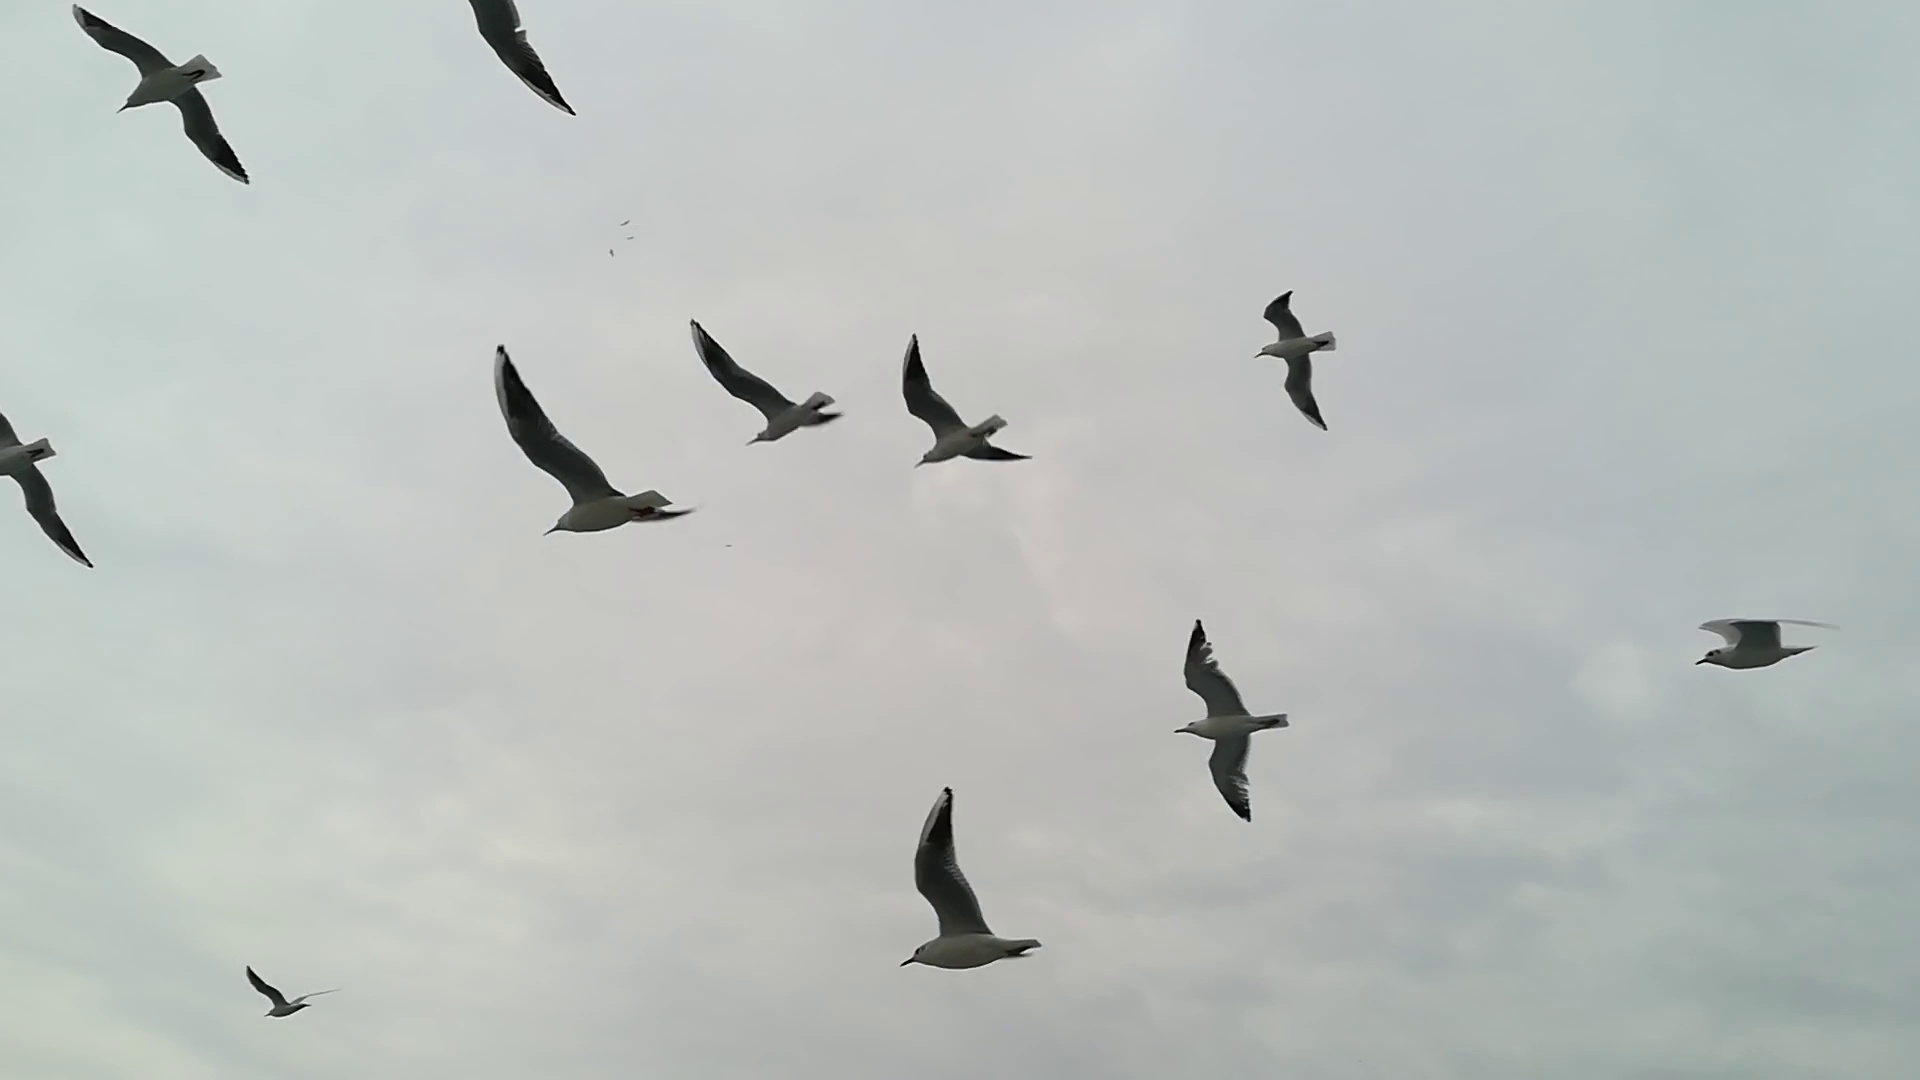bird: (487, 338, 694, 537), (73, 1, 252, 183), (899, 785, 1044, 975), (1174, 616, 1291, 818), (691, 318, 839, 444), (899, 331, 1033, 469), (1, 413, 94, 570), (465, 1, 575, 116), (1255, 285, 1336, 429), (1695, 615, 1838, 673), (243, 965, 339, 1019)
